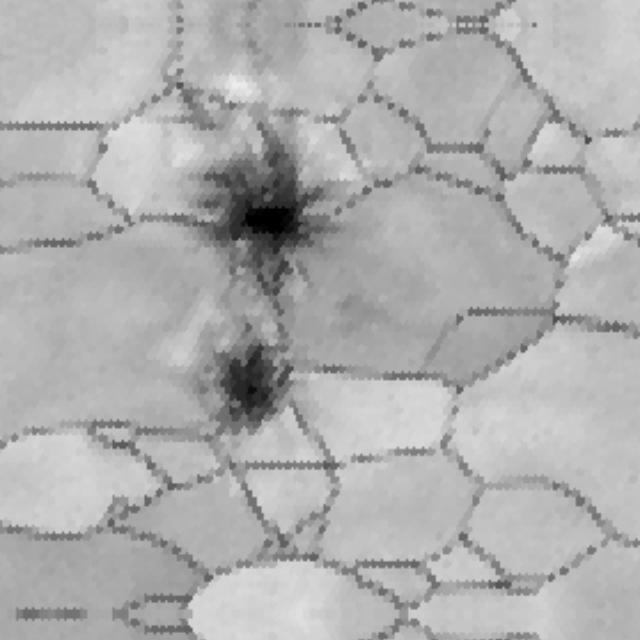good_void: (177, 115, 345, 313), (190, 310, 314, 449), (167, 75, 242, 136)
